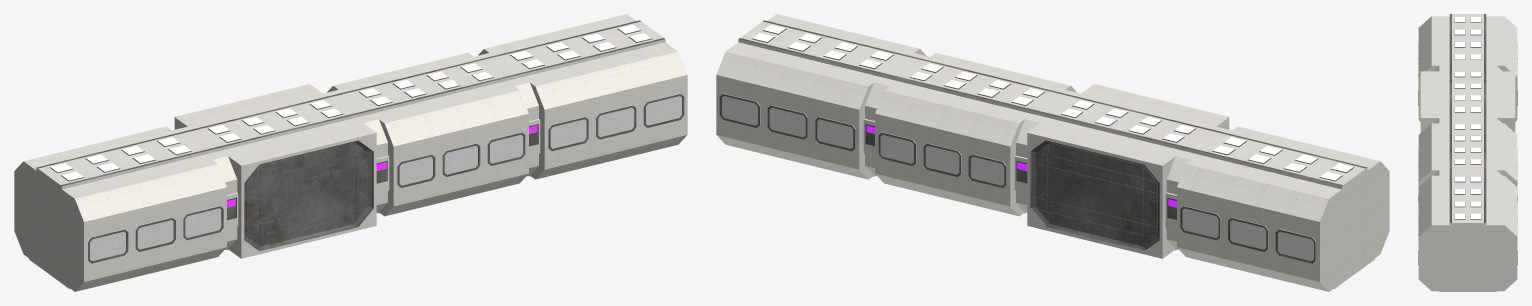
3 renders of one model, left to right at view 1: azimuth 30°, elevation 25°; view 2: azimuth 150°, elevation 25°; view 3: azimuth 270°, elevation 25°, orthographic. The views are drawn at different scales.
Visible parts, largest first — view 1: Cube; view 2: Cube; view 3: Cube.
Boxes of the visible parts, x1=… form: Cube: x1=14, y1=14, x2=687, y2=291; Cube: x1=716, y1=14, x2=1389, y2=291; Cube: x1=1418, y1=14, x2=1517, y2=291.
Bounding box in the file's own units: 19 × 2.95 × 3.84.
7 materials, 5 textured.
